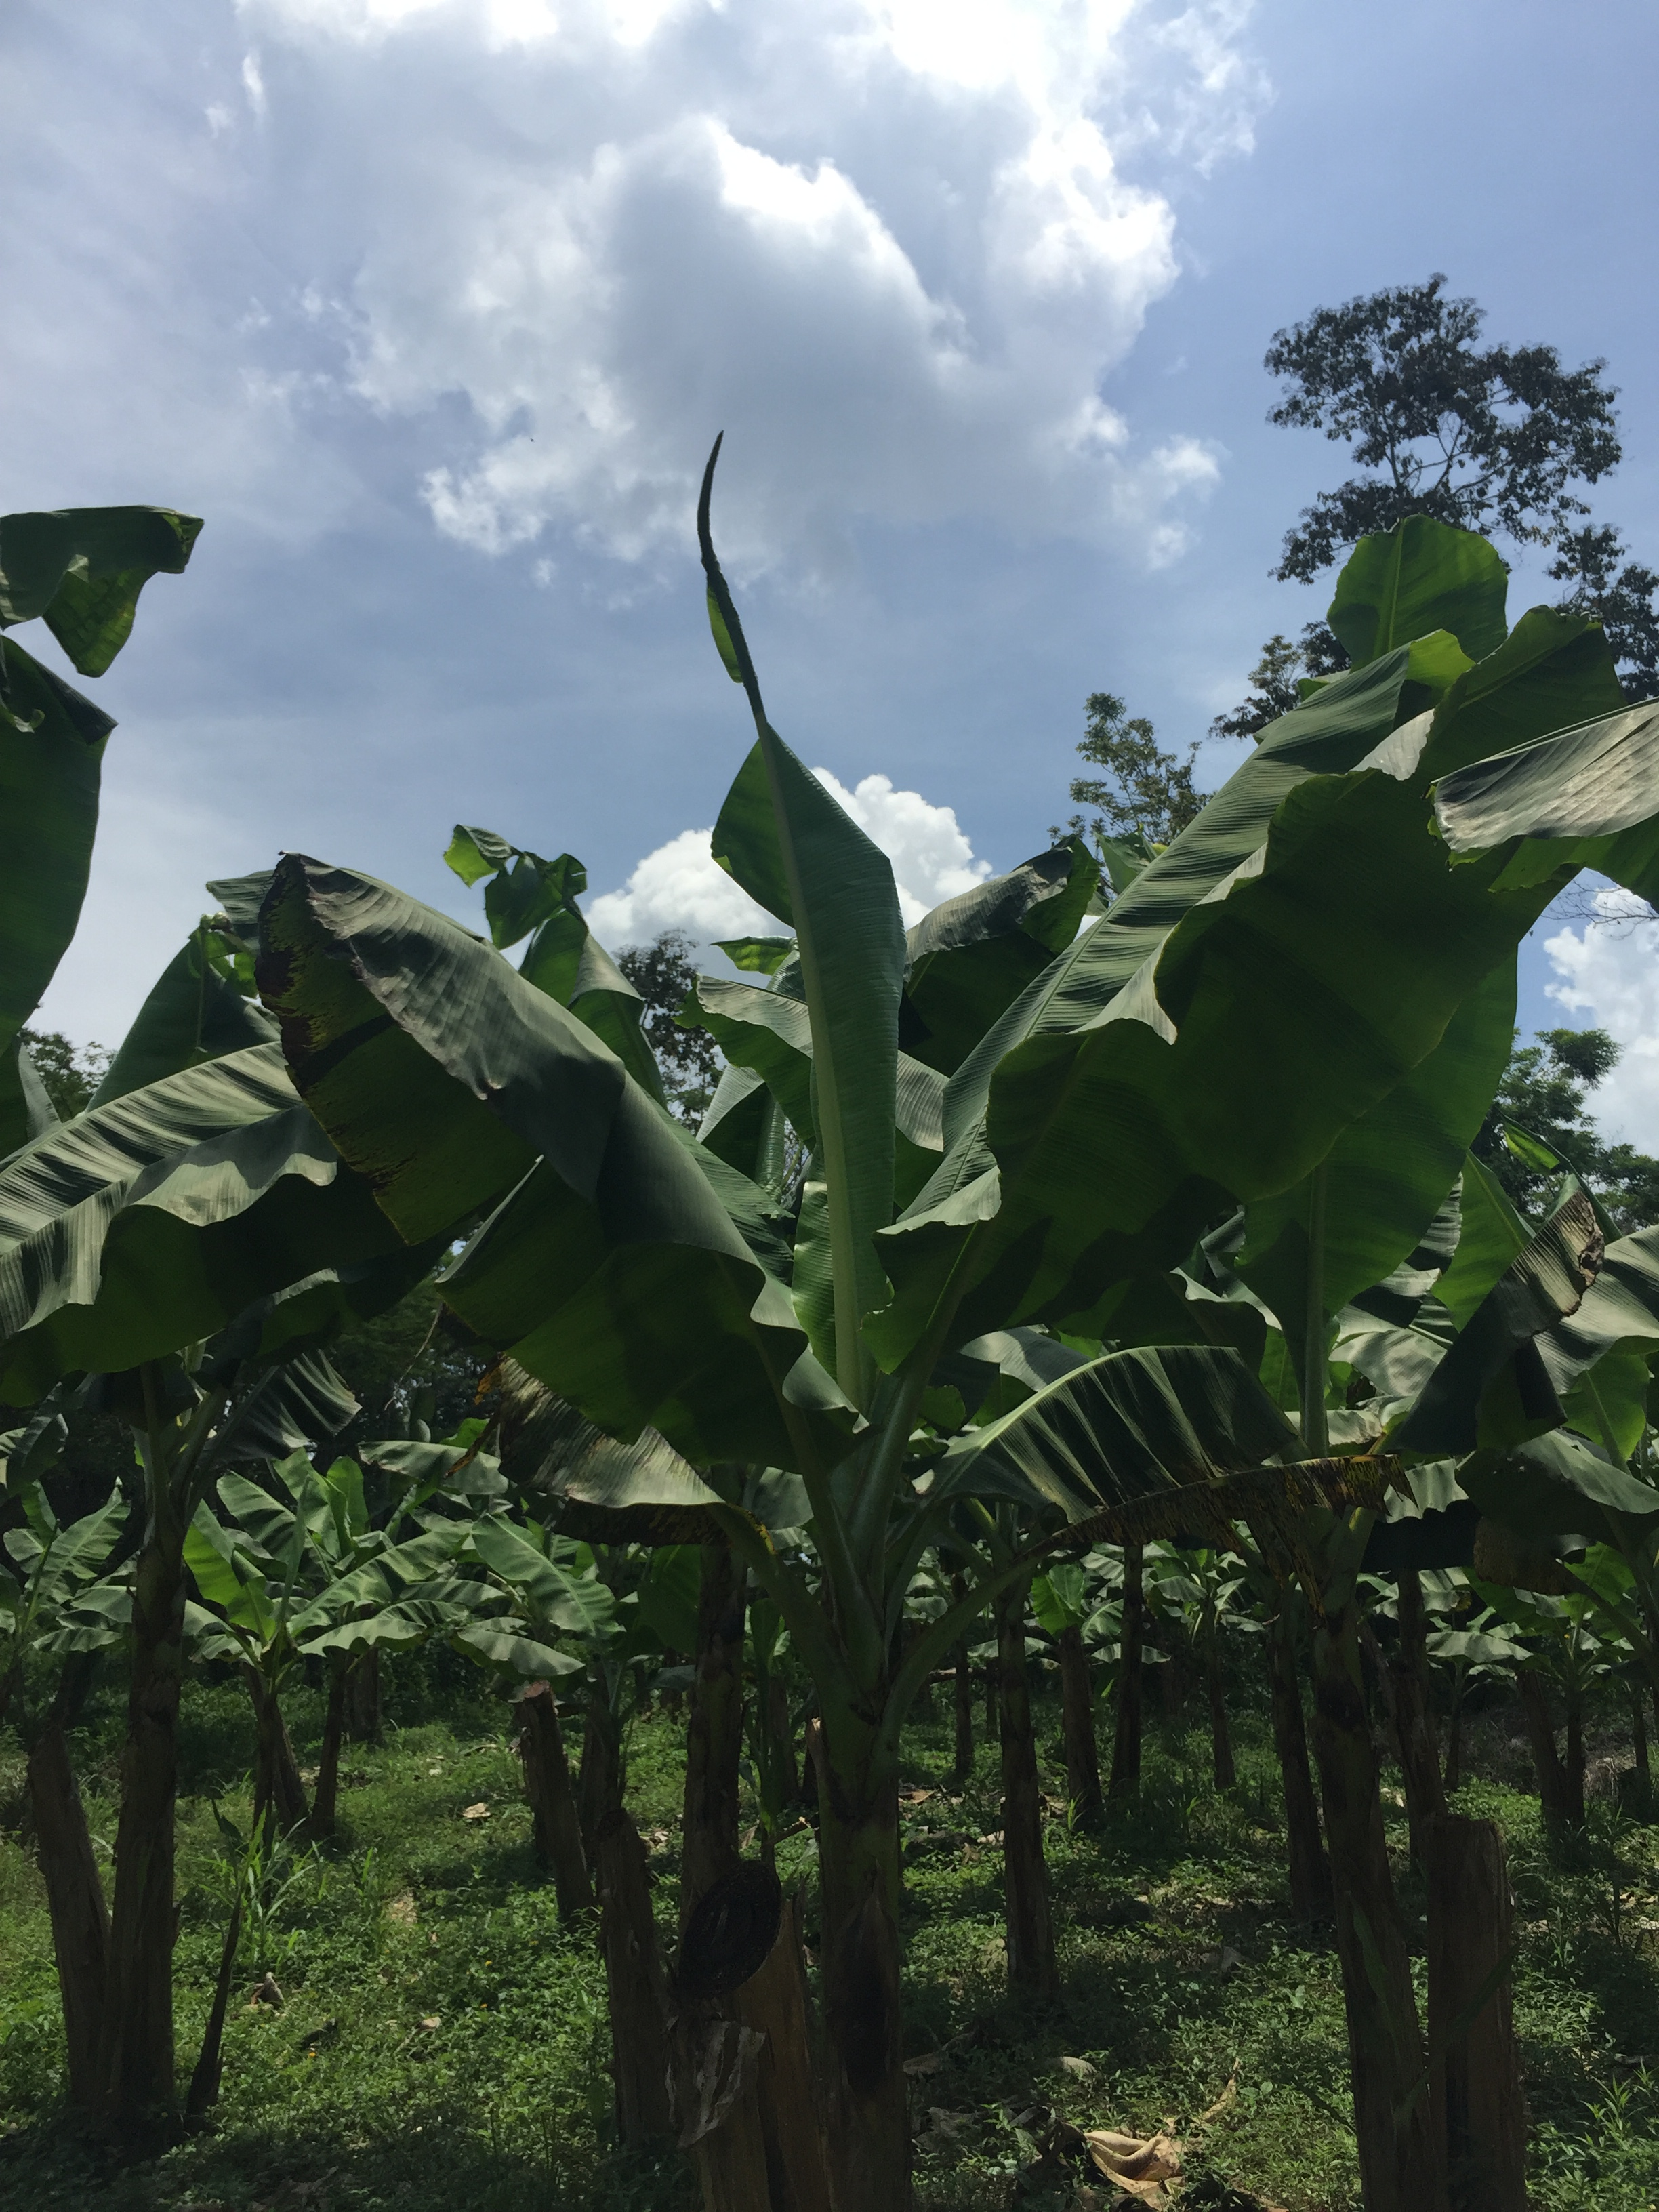candleleafs: (699, 430, 904, 1284)
